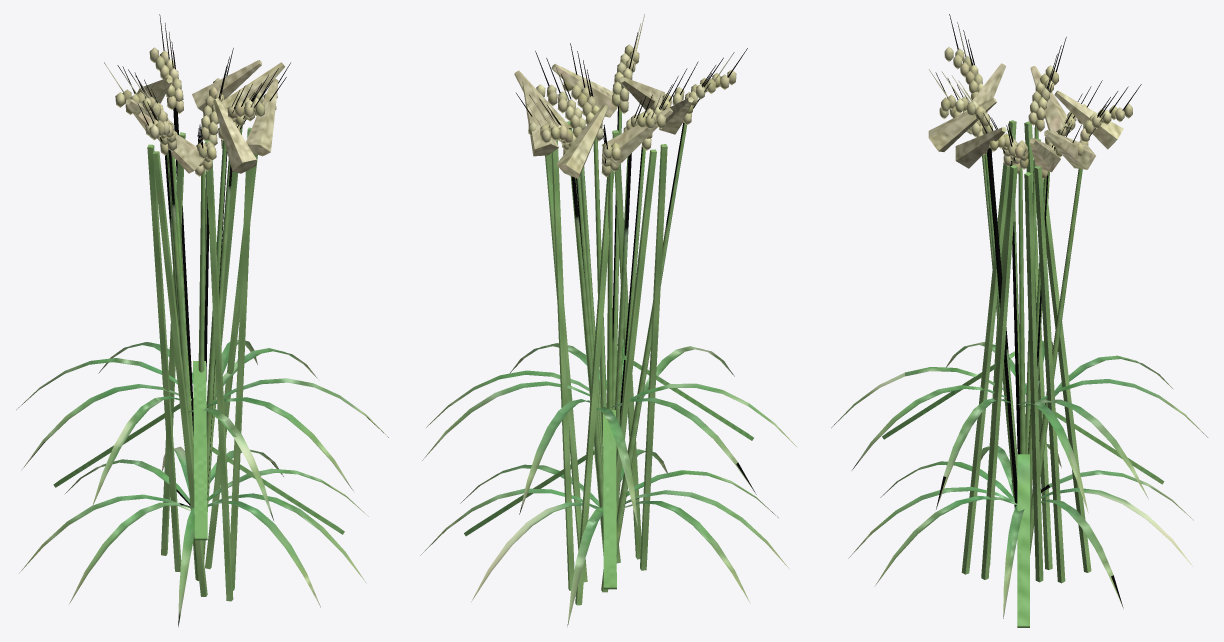
File: cebada.glb
3 views of the same model, side by side, from view 1: azimuth 30°, elevation 25°; view 2: azimuth 150°, elevation 25°; view 3: azimuth 270°, elevation 25° (orthographic). The views are drawn at different scales.
Parts seen in each view (by area): view 1: cebada_lp, cebada; view 2: cebada, cebada_lp; view 3: cebada_lp, cebada.
Part boxes in pixels (x1,y1,x2,y2): cebada_lp: [53, 60, 344, 601]; cebada: [16, 14, 388, 626]; cebada: [420, 14, 797, 625]; cebada_lp: [464, 64, 753, 605]; cebada_lp: [882, 63, 1164, 627]; cebada: [831, 14, 1207, 618].
Size of the model in its own units: 0.5721 by 0.8945 by 0.601.
2 materials, 2 textured.
